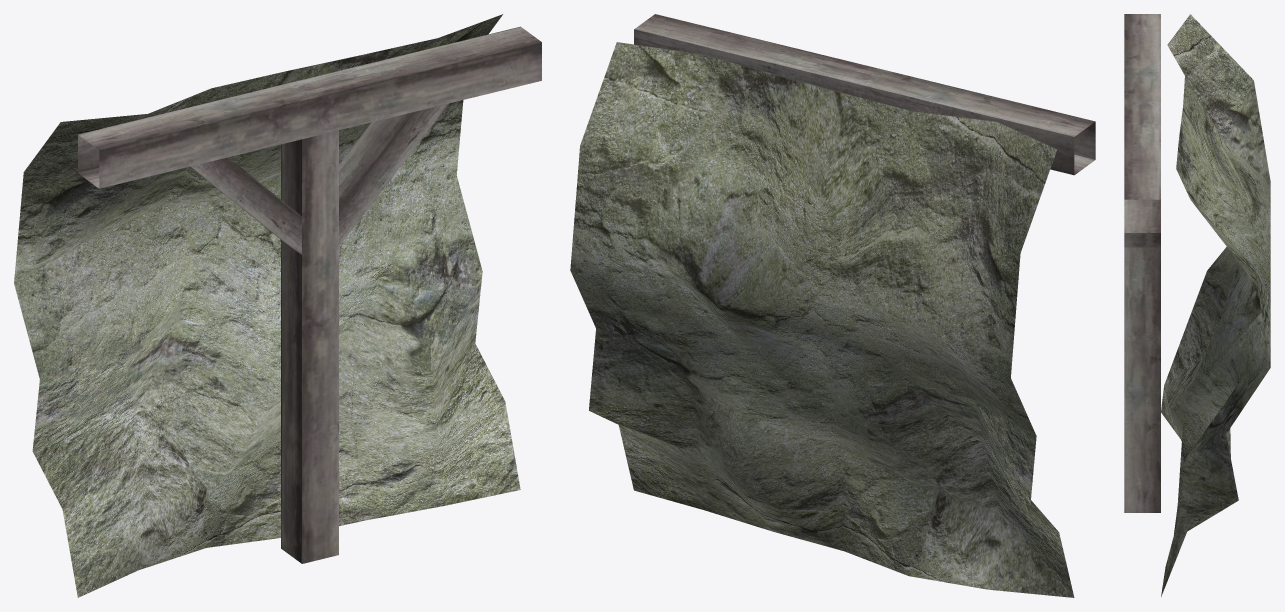
Rendered from Wall_1.FBX.
3 renders of one model, left to right at view 1: azimuth 30°, elevation 25°; view 2: azimuth 150°, elevation 25°; view 3: azimuth 270°, elevation 25°, orthographic. The views are drawn at different scales.
Parts seen in each view (by area): view 1: Wall1; view 2: Wall1; view 3: Wall1.
Part boxes in pixels (x1,y1,x2,y2): Wall1: [14, 14, 541, 597]; Wall1: [570, 14, 1095, 597]; Wall1: [1124, 14, 1270, 596].
Bounding box in the file's own units: 300 × 300 × 100.
